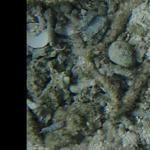dead: (1, 35, 145, 145)
